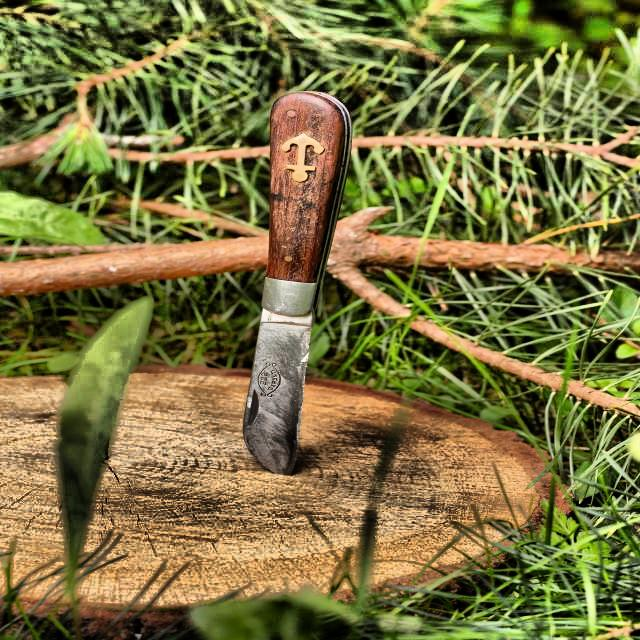knife: (234, 89, 349, 476)
